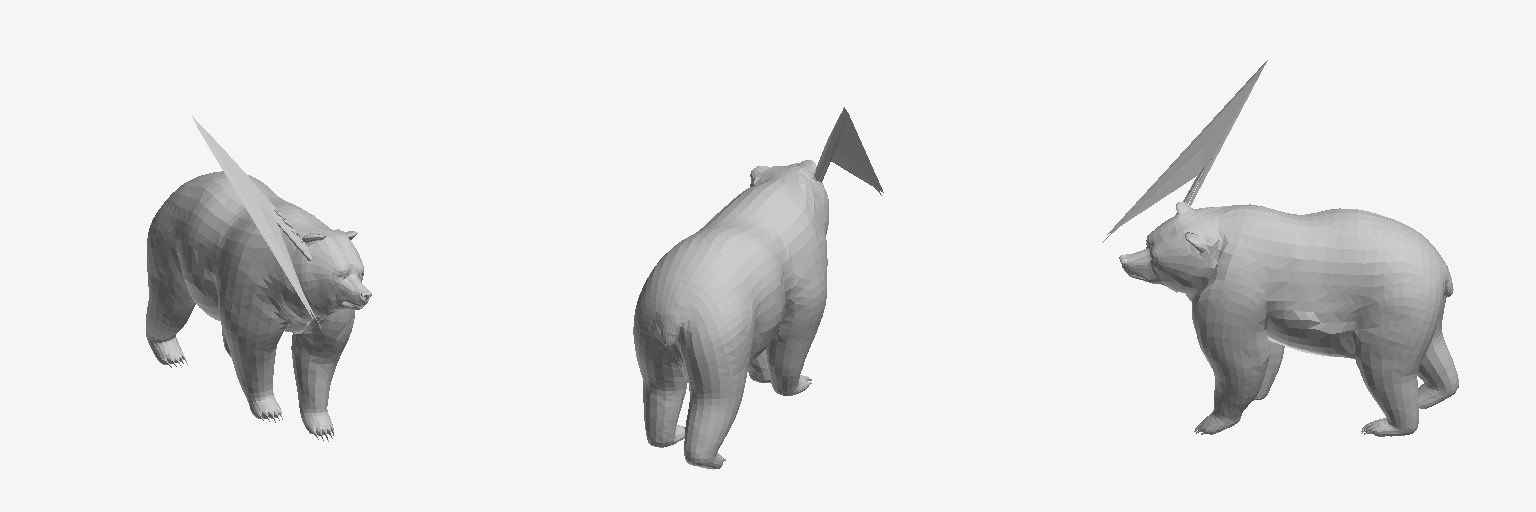
The model's file is Bear0054.obj.
3 renders of one model, left to right at view 1: azimuth 30°, elevation 25°; view 2: azimuth 150°, elevation 25°; view 3: azimuth 270°, elevation 25°, orthographic.
Parts seen in each view (by area): view 1: Object_237; view 2: Object_237; view 3: Object_237.
Boxes of the visible parts, x1,y1,x2,y2 form: Object_237: [146, 116, 371, 441]; Object_237: [633, 107, 883, 469]; Object_237: [1102, 60, 1458, 436].
Bounding box in the file's own units: 2.34 × 5.16 × 5.18.